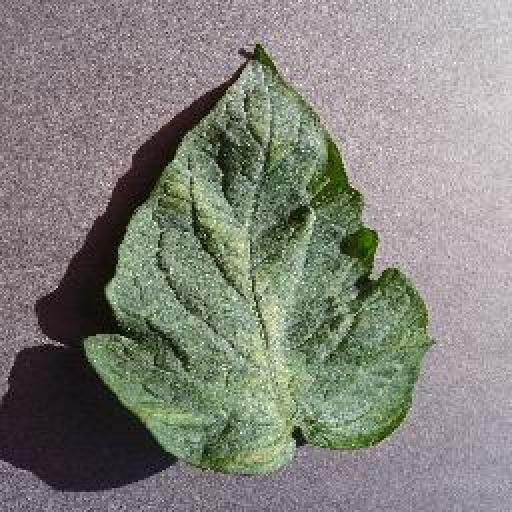disease_tomato: (88, 40, 428, 473)
